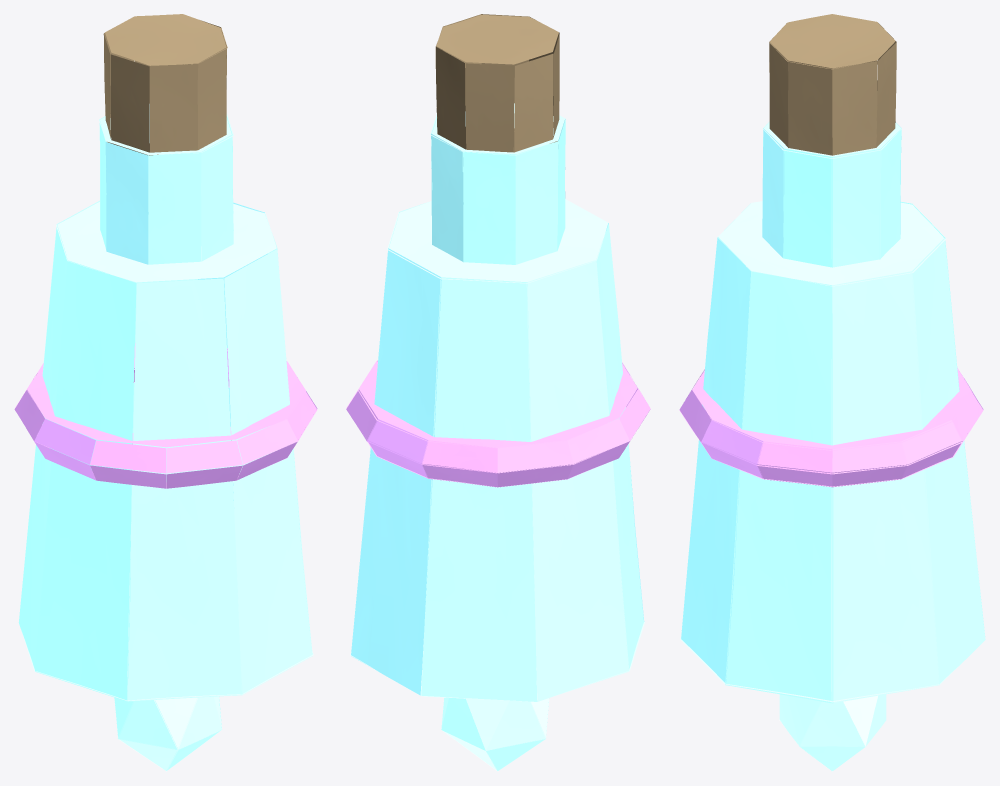
The model's file is glue.glb.
3 views of the same model, side by side, from view 1: azimuth 30°, elevation 25°; view 2: azimuth 150°, elevation 25°; view 3: azimuth 270°, elevation 25° (orthographic).
Visible parts, largest first — view 1: PangGlueBody; view 2: PangGlueBody; view 3: PangGlueBody.
Part boxes in pixels (x1,y1,x2,y2): PangGlueBody: [14, 14, 317, 771]; PangGlueBody: [346, 14, 650, 771]; PangGlueBody: [679, 14, 985, 771].
Bounding box in the file's own units: 0.4802 × 1.27 × 0.4825.
